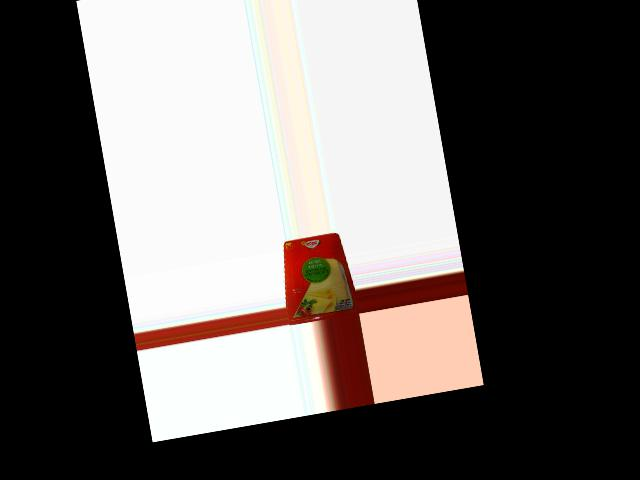cheese: (274, 231, 357, 326)
